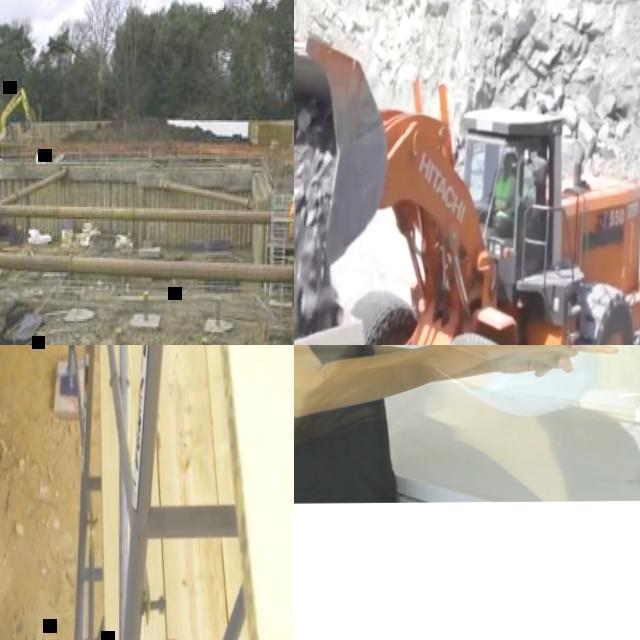helmet: (504, 153, 514, 164), (293, 196, 294, 202)
vest: (496, 176, 516, 213), (289, 196, 294, 244), (292, 203, 294, 219)
